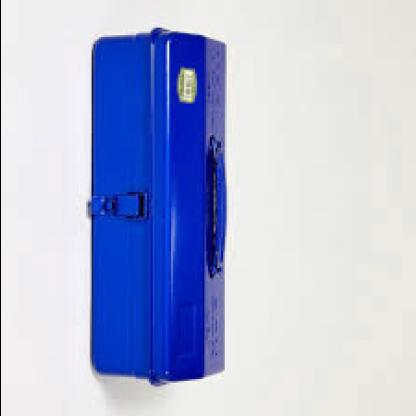Tool Box: (83, 26, 237, 394)
